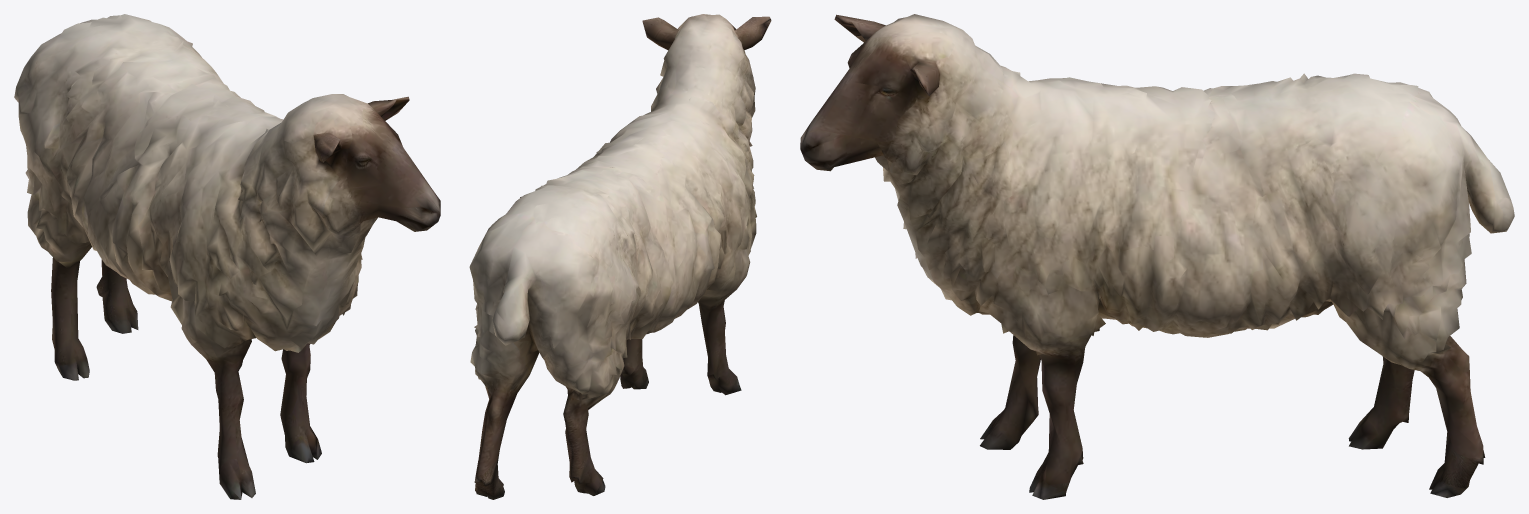
Rendered from animal_sheep.glb.
The picture shows the model from 3 angles, left to right: view 1: azimuth 30°, elevation 25°; view 2: azimuth 150°, elevation 25°; view 3: azimuth 270°, elevation 25°; orthographic projection. The views are drawn at different scales.
Visible parts, largest first — view 1: tripo_node_26df144c-3919-4b53-b69e-f31d2578c57e; view 2: tripo_node_26df144c-3919-4b53-b69e-f31d2578c57e; view 3: tripo_node_26df144c-3919-4b53-b69e-f31d2578c57e.
Boxes of the visible parts, box(x1,y1,x2,y2) form: tripo_node_26df144c-3919-4b53-b69e-f31d2578c57e: box(14, 14, 440, 499); tripo_node_26df144c-3919-4b53-b69e-f31d2578c57e: box(469, 14, 771, 499); tripo_node_26df144c-3919-4b53-b69e-f31d2578c57e: box(800, 14, 1514, 499).
Bounding box in the file's own units: 0.3546 × 0.6871 × 0.9803.
Materials: 1 (1 with a texture image).
